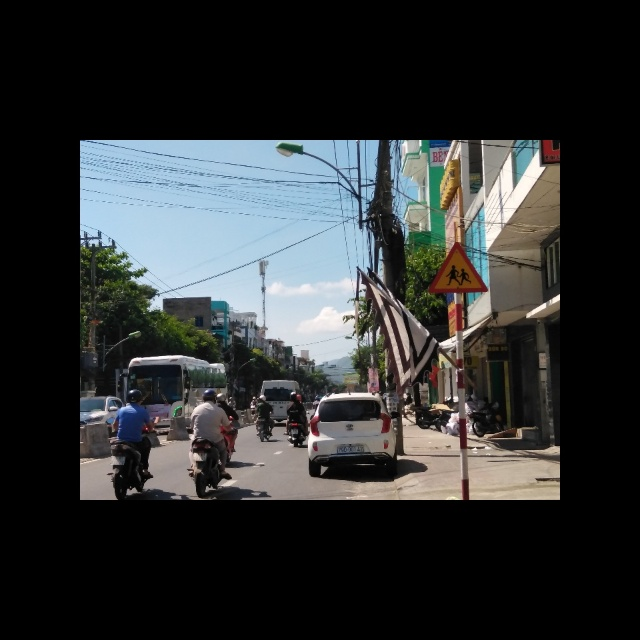Trẻ em ngang qua: (424, 240, 487, 294)
